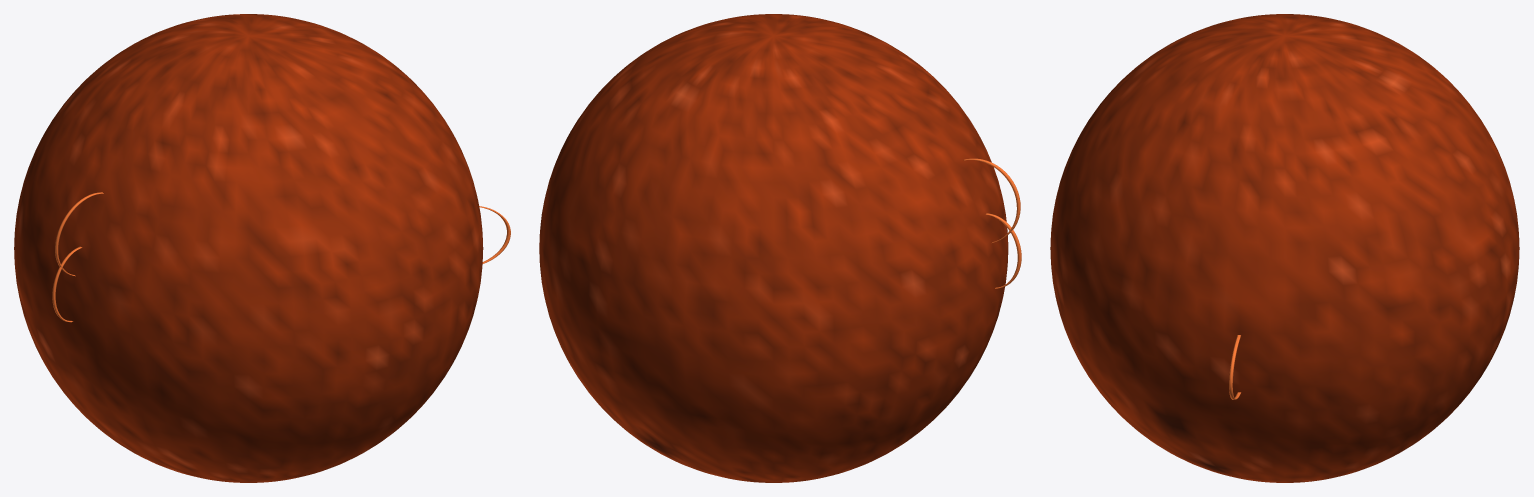
File: Star_46.fbx
3 renders of one model, left to right at view 1: azimuth 30°, elevation 25°; view 2: azimuth 150°, elevation 25°; view 3: azimuth 270°, elevation 25°, orthographic.
Visible parts, largest first — view 1: Star_46; view 2: Star_46; view 3: Star_46.
Boxes of the visible parts, left/top/right/bottom form: Star_46: left=14, top=14, right=510, bottom=482; Star_46: left=539, top=14, right=1021, bottom=482; Star_46: left=1050, top=14, right=1519, bottom=482.
Bounding box in the file's own units: 225 × 200 × 200.
